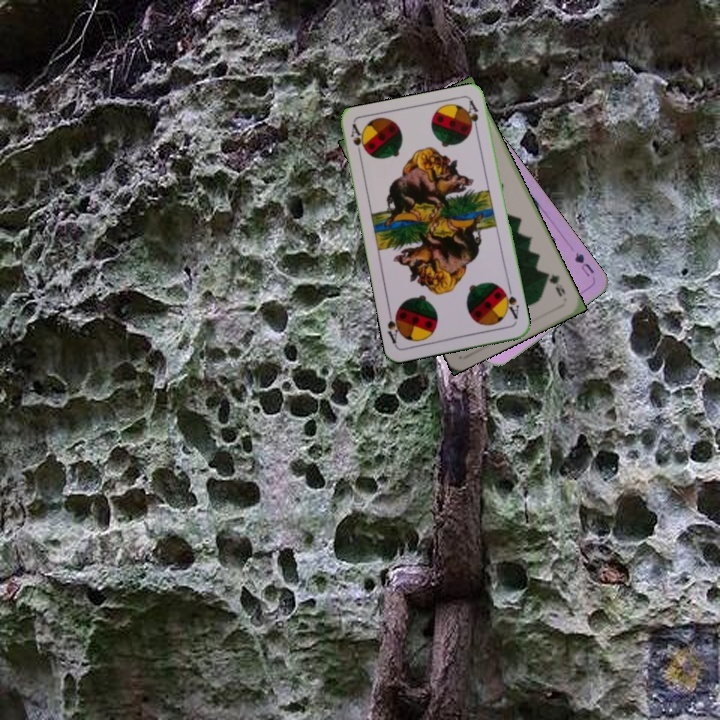G9: (541, 267, 568, 299)
GU: (570, 248, 597, 279)
SA: (347, 121, 369, 162), (499, 283, 521, 321)
